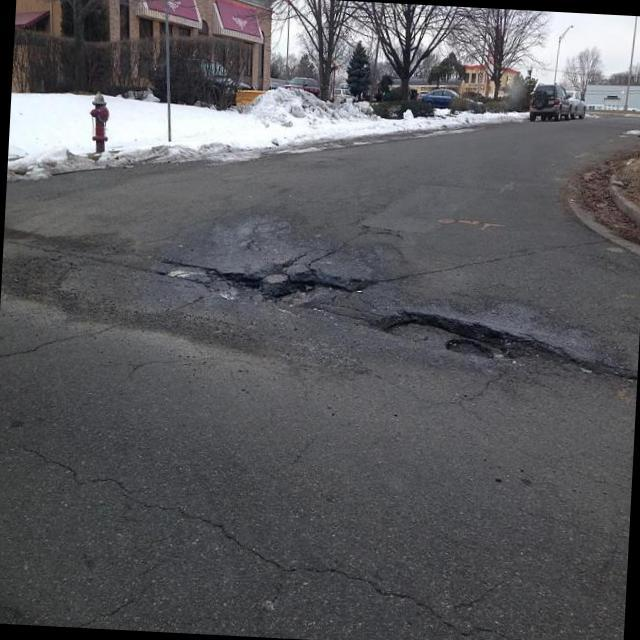Pothole: (379, 309, 564, 362), (212, 269, 359, 307)
